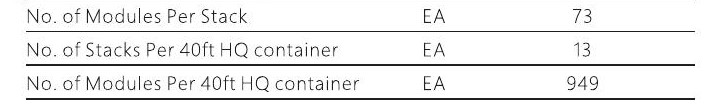table: (8, 2, 704, 105), (17, 69, 703, 97), (18, 35, 702, 63), (17, 5, 700, 29)
table column: (23, 3, 377, 102), (518, 3, 640, 102), (388, 3, 486, 103)
